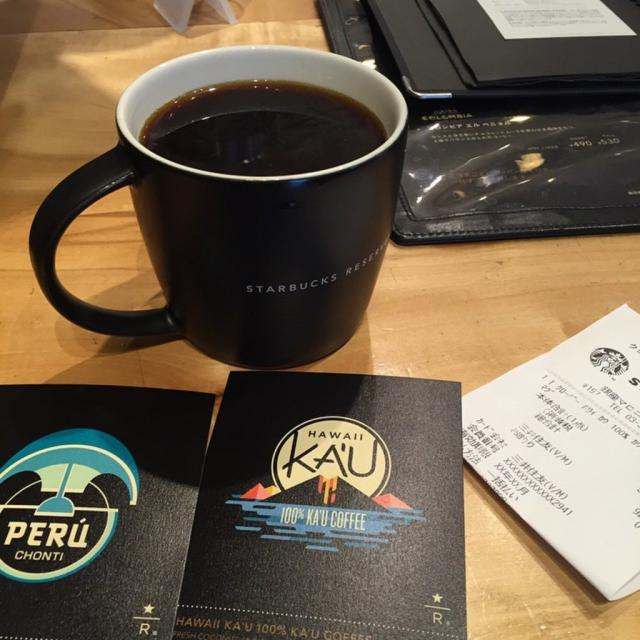Coffee: (135, 80, 384, 179)
Tea: (132, 75, 384, 173)
